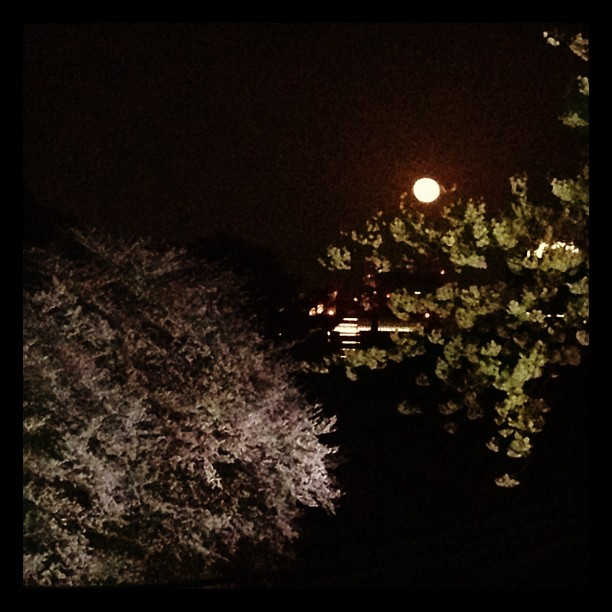moon: (392, 161, 445, 205)
sky: (38, 27, 592, 242)
tree: (7, 258, 336, 586), (371, 192, 612, 446)
